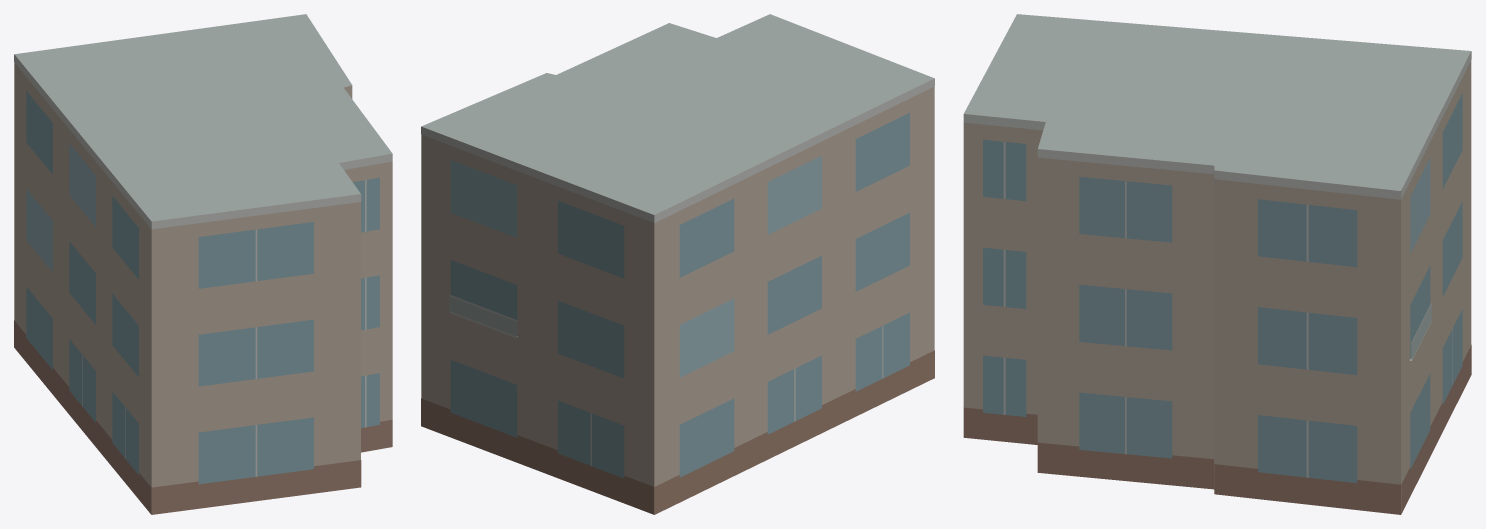
The model's file is survey-upis-32679941.glb.
3 views of the same model, side by side, from view 1: azimuth 30°, elevation 25°; view 2: azimuth 150°, elevation 25°; view 3: azimuth 270°, elevation 25° (orthographic). The views are drawn at different scales.
Visible parts, largest first — view 1: survey-upis-32679941.tmp; view 2: survey-upis-32679941.tmp; view 3: survey-upis-32679941.tmp.
Part boxes in pixels (x1=…): survey-upis-32679941.tmp: x1=14, y1=14, x2=392, y2=514; survey-upis-32679941.tmp: x1=421, y1=14, x2=934, y2=514; survey-upis-32679941.tmp: x1=963, y1=14, x2=1471, y2=514.
Bounding box in the file's own units: 10.74 × 9.15 × 13.02.
